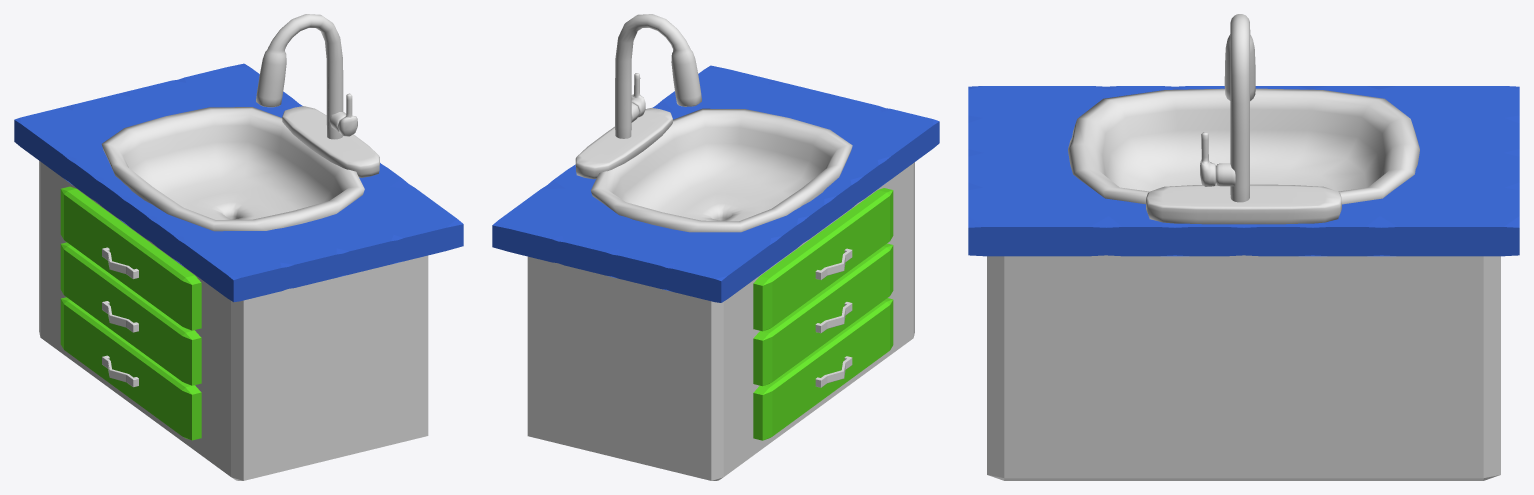
Rendered from Sink.fbx.
3 renders of one model, left to right at view 1: azimuth 30°, elevation 25°; view 2: azimuth 150°, elevation 25°; view 3: azimuth 270°, elevation 25°, orthographic. The views are drawn at different scales.
Parts seen in each view (by area): view 1: Sink; view 2: Sink; view 3: Sink.
Part boxes in pixels (box(x1,y1,x2,y2)): Sink: box(14, 14, 463, 480); Sink: box(492, 14, 939, 480); Sink: box(968, 14, 1519, 480).
Bounding box in the file's own units: 317 × 443 × 493.
